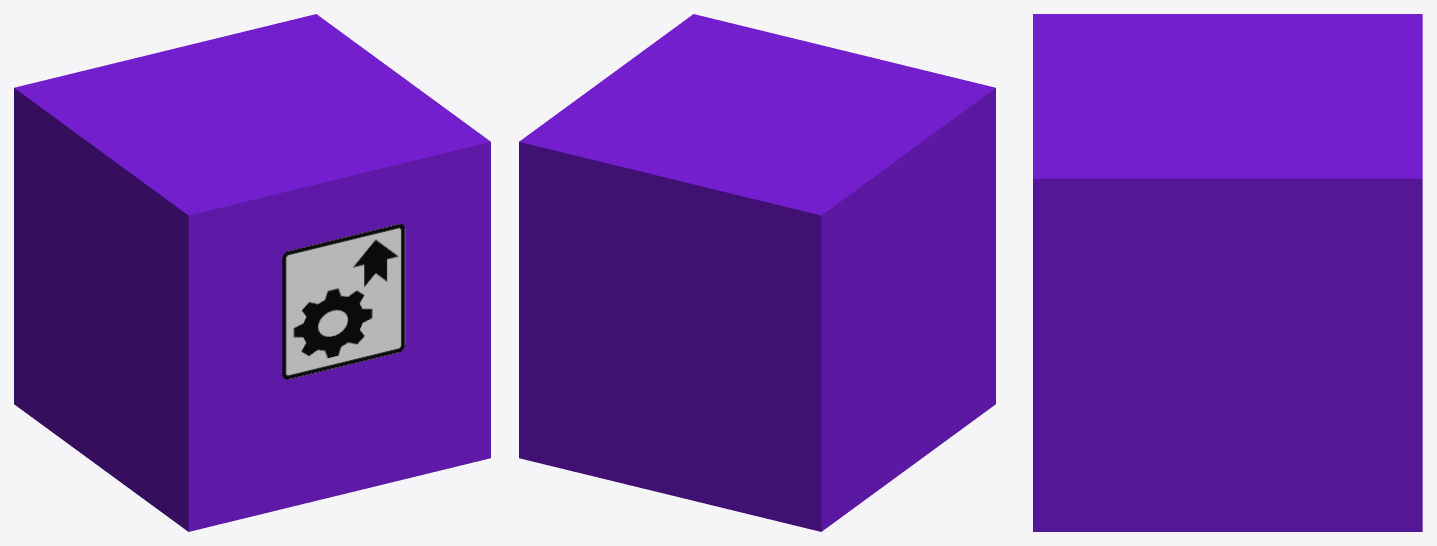
The model's file is upgrade_fabricator.fbx.
3 renders of one model, left to right at view 1: azimuth 30°, elevation 25°; view 2: azimuth 150°, elevation 25°; view 3: azimuth 270°, elevation 25°, orthographic. The views are drawn at different scales.
Visible parts, largest first — view 1: Cube, Plane; view 2: Cube; view 3: Cube.
Boxes of the visible parts, left/top/right/bottom form: Cube: left=14, top=14, right=490, bottom=531; Plane: left=282, top=224, right=405, bottom=379; Cube: left=519, top=14, right=995, bottom=531; Cube: left=1033, top=14, right=1422, bottom=531.
Size of the model in its own units: 773 by 773 by 790.
